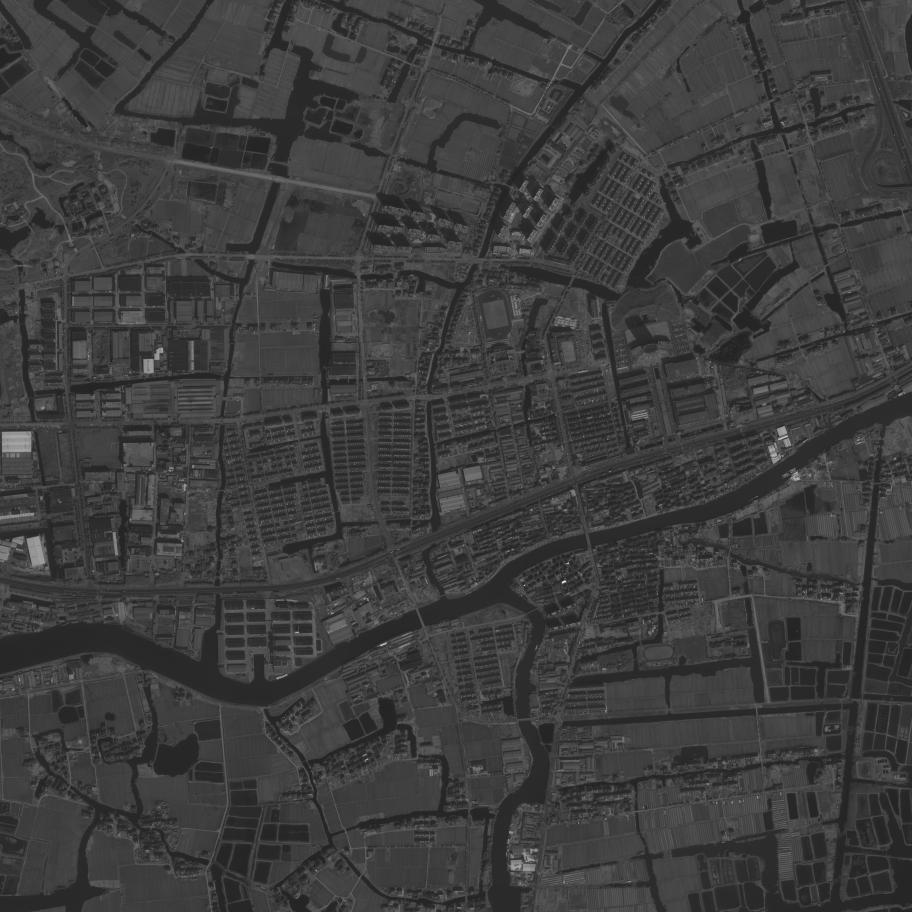ship: (748, 495, 758, 502), (787, 467, 797, 473), (806, 457, 815, 462), (782, 473, 789, 479), (782, 473, 788, 478), (790, 470, 796, 474)
